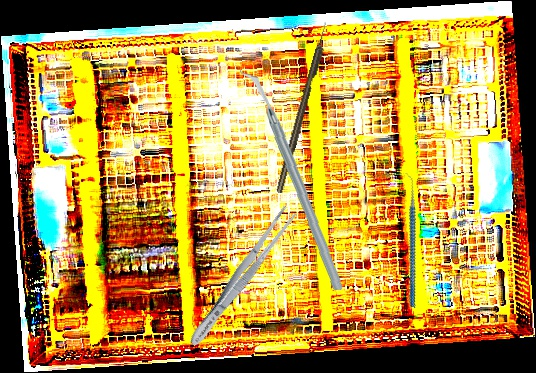Chopper: (231, 70, 353, 290), (362, 171, 457, 309)
Dressing Forceps: (184, 203, 299, 351)
Hook Surgical: (274, 21, 332, 194)
